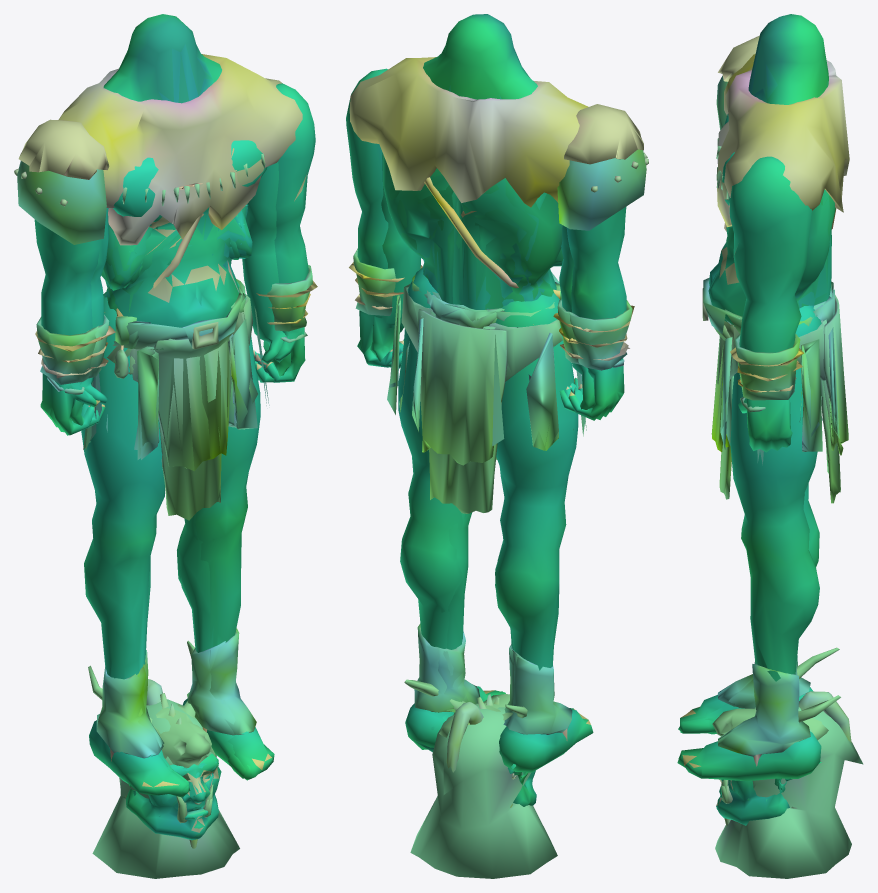
Rendered from orks.glb.
The picture shows the model from 3 angles, left to right: view 1: azimuth 30°, elevation 25°; view 2: azimuth 150°, elevation 25°; view 3: azimuth 270°, elevation 25°; orthographic projection.
Visible parts, largest first — view 1: ork_leg_heavy_l, ork_mantle_shaman, ork_trunk_grunt, ork_leg_heavy_r, ork_kilt_grunt, ork_pauldron_grunt, ork_head_scout, ork_kilt_berserker, ork_arm_heavy_l, ork_trunk_berserker, ork_arm_heavy_r, ork_leg_lean_r (+11 smaller); view 2: ork_leg_heavy_l, ork_mantle_shaman, ork_head_scout, ork_kilt_grunt, ork_leg_heavy_r, ork_trunk_grunt, ork_trunk_berserker, ork_pauldron_grunt, ork_arm_heavy_l, ork_kilt_berserker, ork_arm_heavy_r, ork_kilt_shaman (+10 smaller); view 3: ork_leg_heavy_r, ork_arm_heavy_r, ork_mantle_shaman, ork_head_scout, ork_trunk_grunt, ork_kilt_grunt, ork_trunk_berserker, ork_bracer_heavy_r, ork_kilt_berserker, ork_head_berserker, ork_leg_heavy_l, ork_head_shaman (+5 smaller).
Part boxes in pixels (<box>): ork_leg_heavy_l: <box>81,292,188,797</box>; ork_mantle_shaman: <box>58,54,302,245</box>; ork_trunk_grunt: <box>101,14,252,327</box>; ork_leg_heavy_r: <box>177,281,274,780</box>; ork_kilt_grunt: <box>85,288,269,470</box>; ork_pauldron_grunt: <box>14,119,109,244</box>; ork_head_scout: <box>92,699,239,878</box>; ork_kilt_berserker: <box>83,279,266,470</box>; ork_arm_heavy_l: <box>34,219,100,435</box>; ork_trunk_berserker: <box>101,44,267,314</box>; ork_arm_heavy_r: <box>253,83,315,382</box>; ork_leg_lean_r: <box>178,513,251,778</box>; ork_leg_heavy_l: <box>495,293,593,772</box>; ork_mantle_shaman: <box>349,57,588,207</box>; ork_head_scout: <box>410,703,557,878</box>; ork_kilt_grunt: <box>387,272,586,465</box>; ork_leg_heavy_r: <box>398,269,505,749</box>; ork_trunk_grunt: <box>389,14,562,382</box>; ork_trunk_berserker: <box>383,85,563,309</box>; ork_pauldron_grunt: <box>557,104,648,230</box>; ork_arm_heavy_l: <box>566,206,626,420</box>; ork_kilt_berserker: <box>389,267,585,450</box>; ork_arm_heavy_r: <box>346,68,404,367</box>; ork_kilt_shaman: <box>429,292,502,513</box>; ork_leg_heavy_r: <box>677,305,821,781</box>; ork_arm_heavy_r: <box>729,156,811,452</box>; ork_mantle_shaman: <box>716,54,849,227</box>; ork_head_scout: <box>715,707,863,878</box>; ork_trunk_grunt: <box>708,14,834,326</box>; ork_kilt_grunt: <box>702,277,848,462</box>; ork_trunk_berserker: <box>722,39,835,307</box>; ork_bracer_heavy_r: <box>730,334,803,400</box>; ork_kilt_berserker: <box>711,289,839,465</box>; ork_head_berserker: <box>716,707,791,825</box>; ork_leg_heavy_l: <box>680,483,819,733</box>; ork_head_shaman: <box>712,647,840,826</box>.
Size of the model in its own units: 0.6881 by 1.91 by 0.3889.
